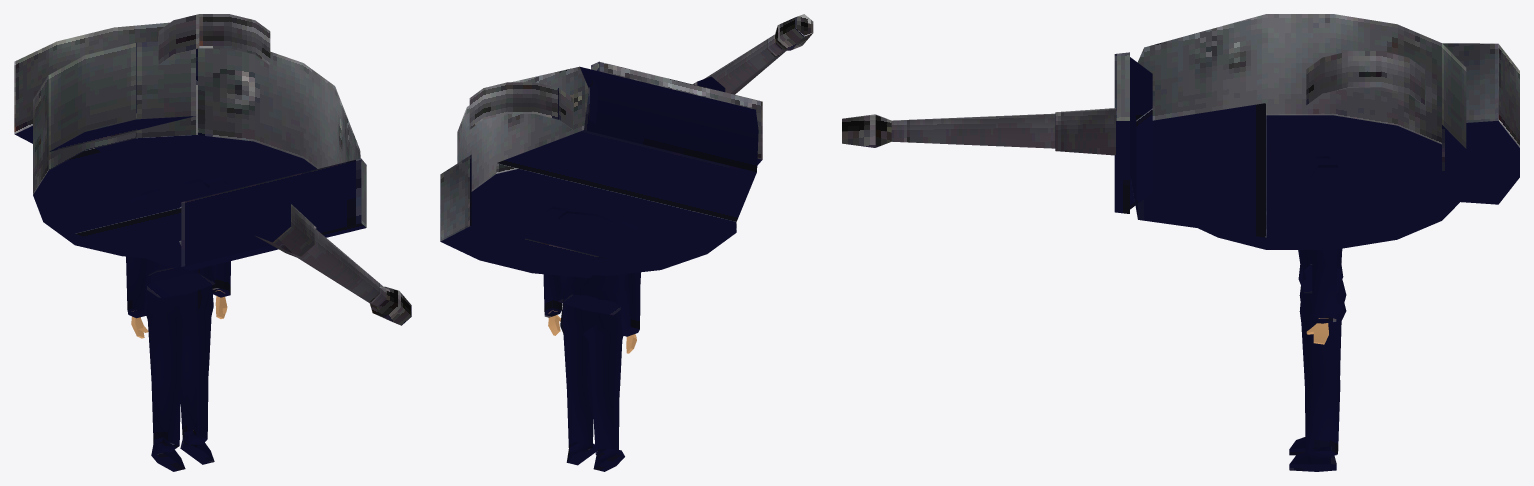
Rendered from ps2_save-icons_standarddaisenryakudengekisen.glb.
3 views of the same model, side by side, from view 1: azimuth 30°, elevation 25°; view 2: azimuth 150°, elevation 25°; view 3: azimuth 270°, elevation 25° (orthographic). The views are drawn at different scales.
Parts seen in each view (by area): view 1: system.ico; view 2: system.ico; view 3: system.ico.
Part boxes in pixels (x1,y1,x2,y2): system.ico: [14, 14, 411, 471]; system.ico: [440, 14, 813, 471]; system.ico: [842, 14, 1519, 471].
Size of the model in its own units: 1.65 by 2.35 by 3.5.
1 material, 1 textured.
